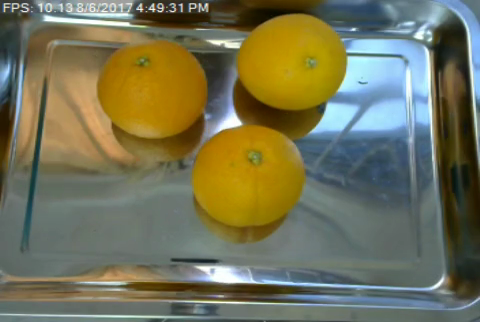Orange: (190, 125, 306, 227), (235, 13, 349, 111), (99, 39, 208, 138)
